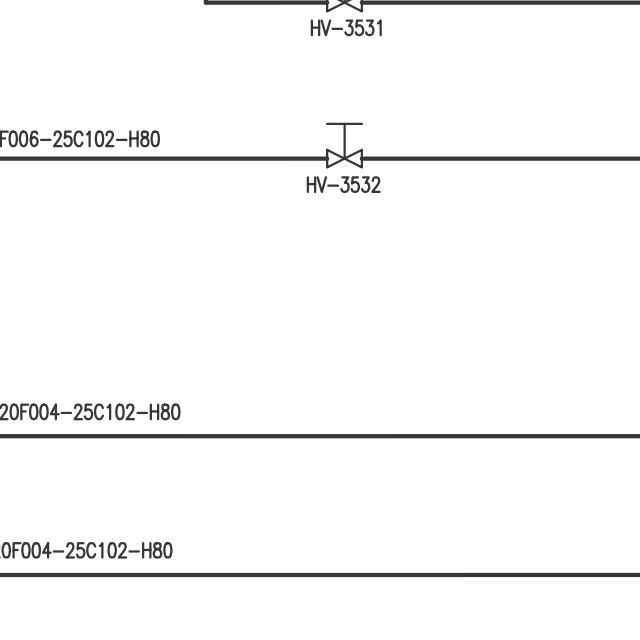HVWT: (320, 116, 369, 176)
